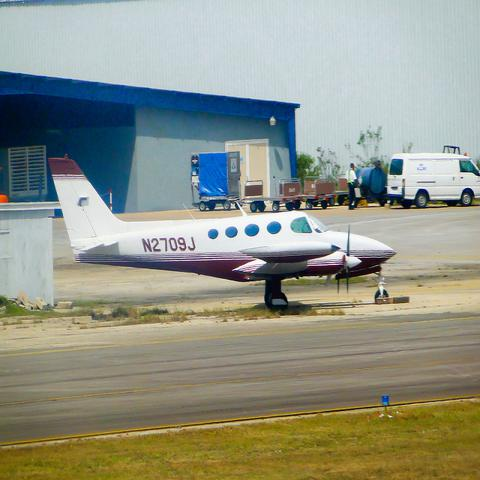truck: (387, 152, 479, 209), (190, 152, 242, 214)
